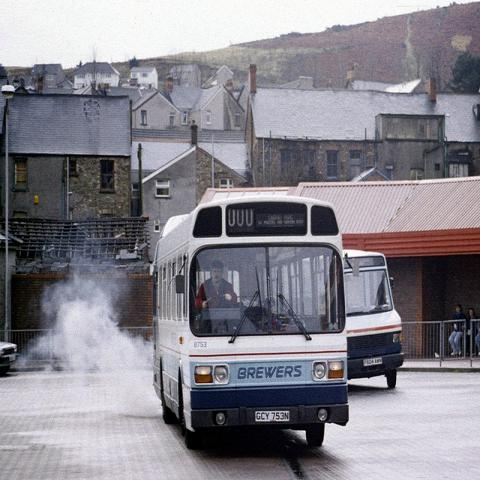bus: (156, 189, 350, 451)
car: (0, 340, 18, 376)
truck: (346, 250, 407, 394)
